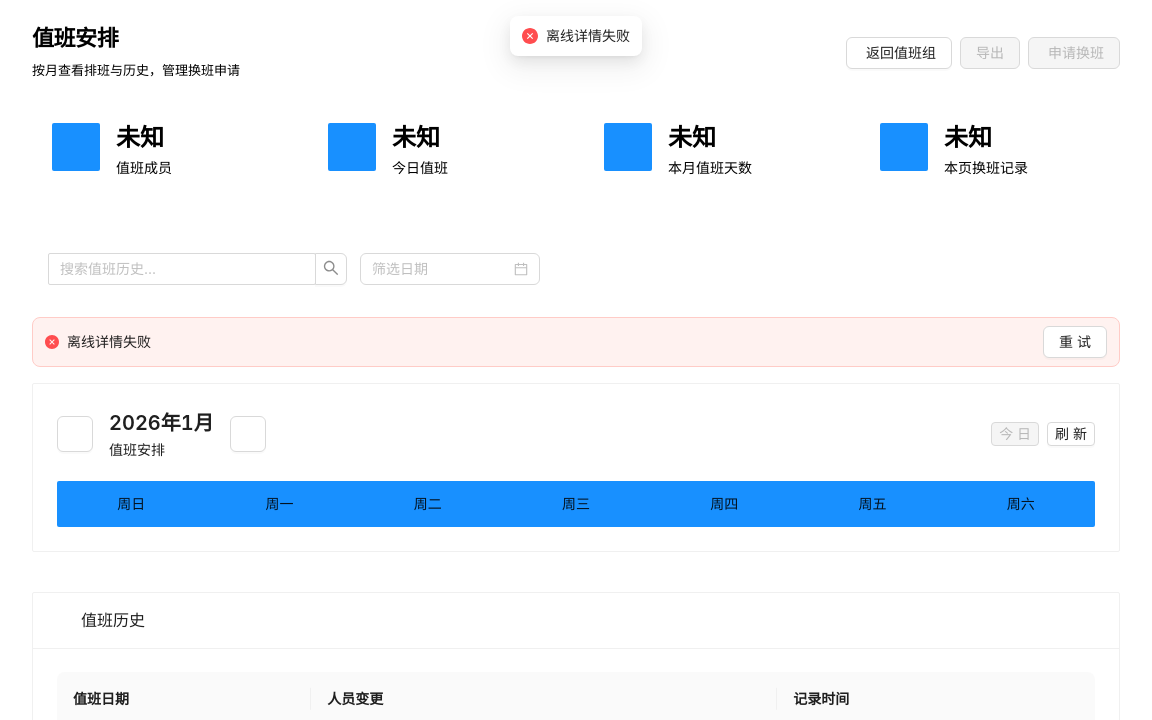
Test case: 值班日历页面真实控件 › 详情加载失败留在当前页并支持重试
Expected: the message "离线详情失败 重 试" is shown, [32,317,1120,367]
What coordinates should you click on to do the following:
click the button "重 试"
I would click on:
 (1075, 342)
Its box is [1043,326,1107,358].
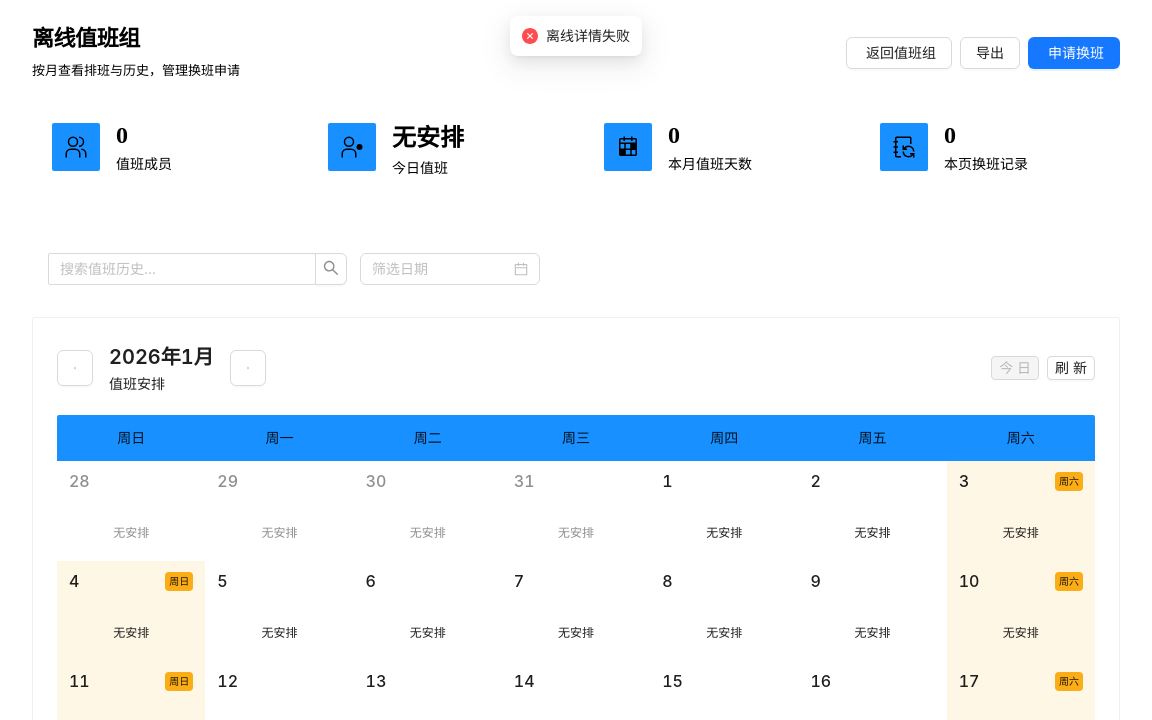
Expected: the text "离线值班组" is shown, [32,26,140,51]
